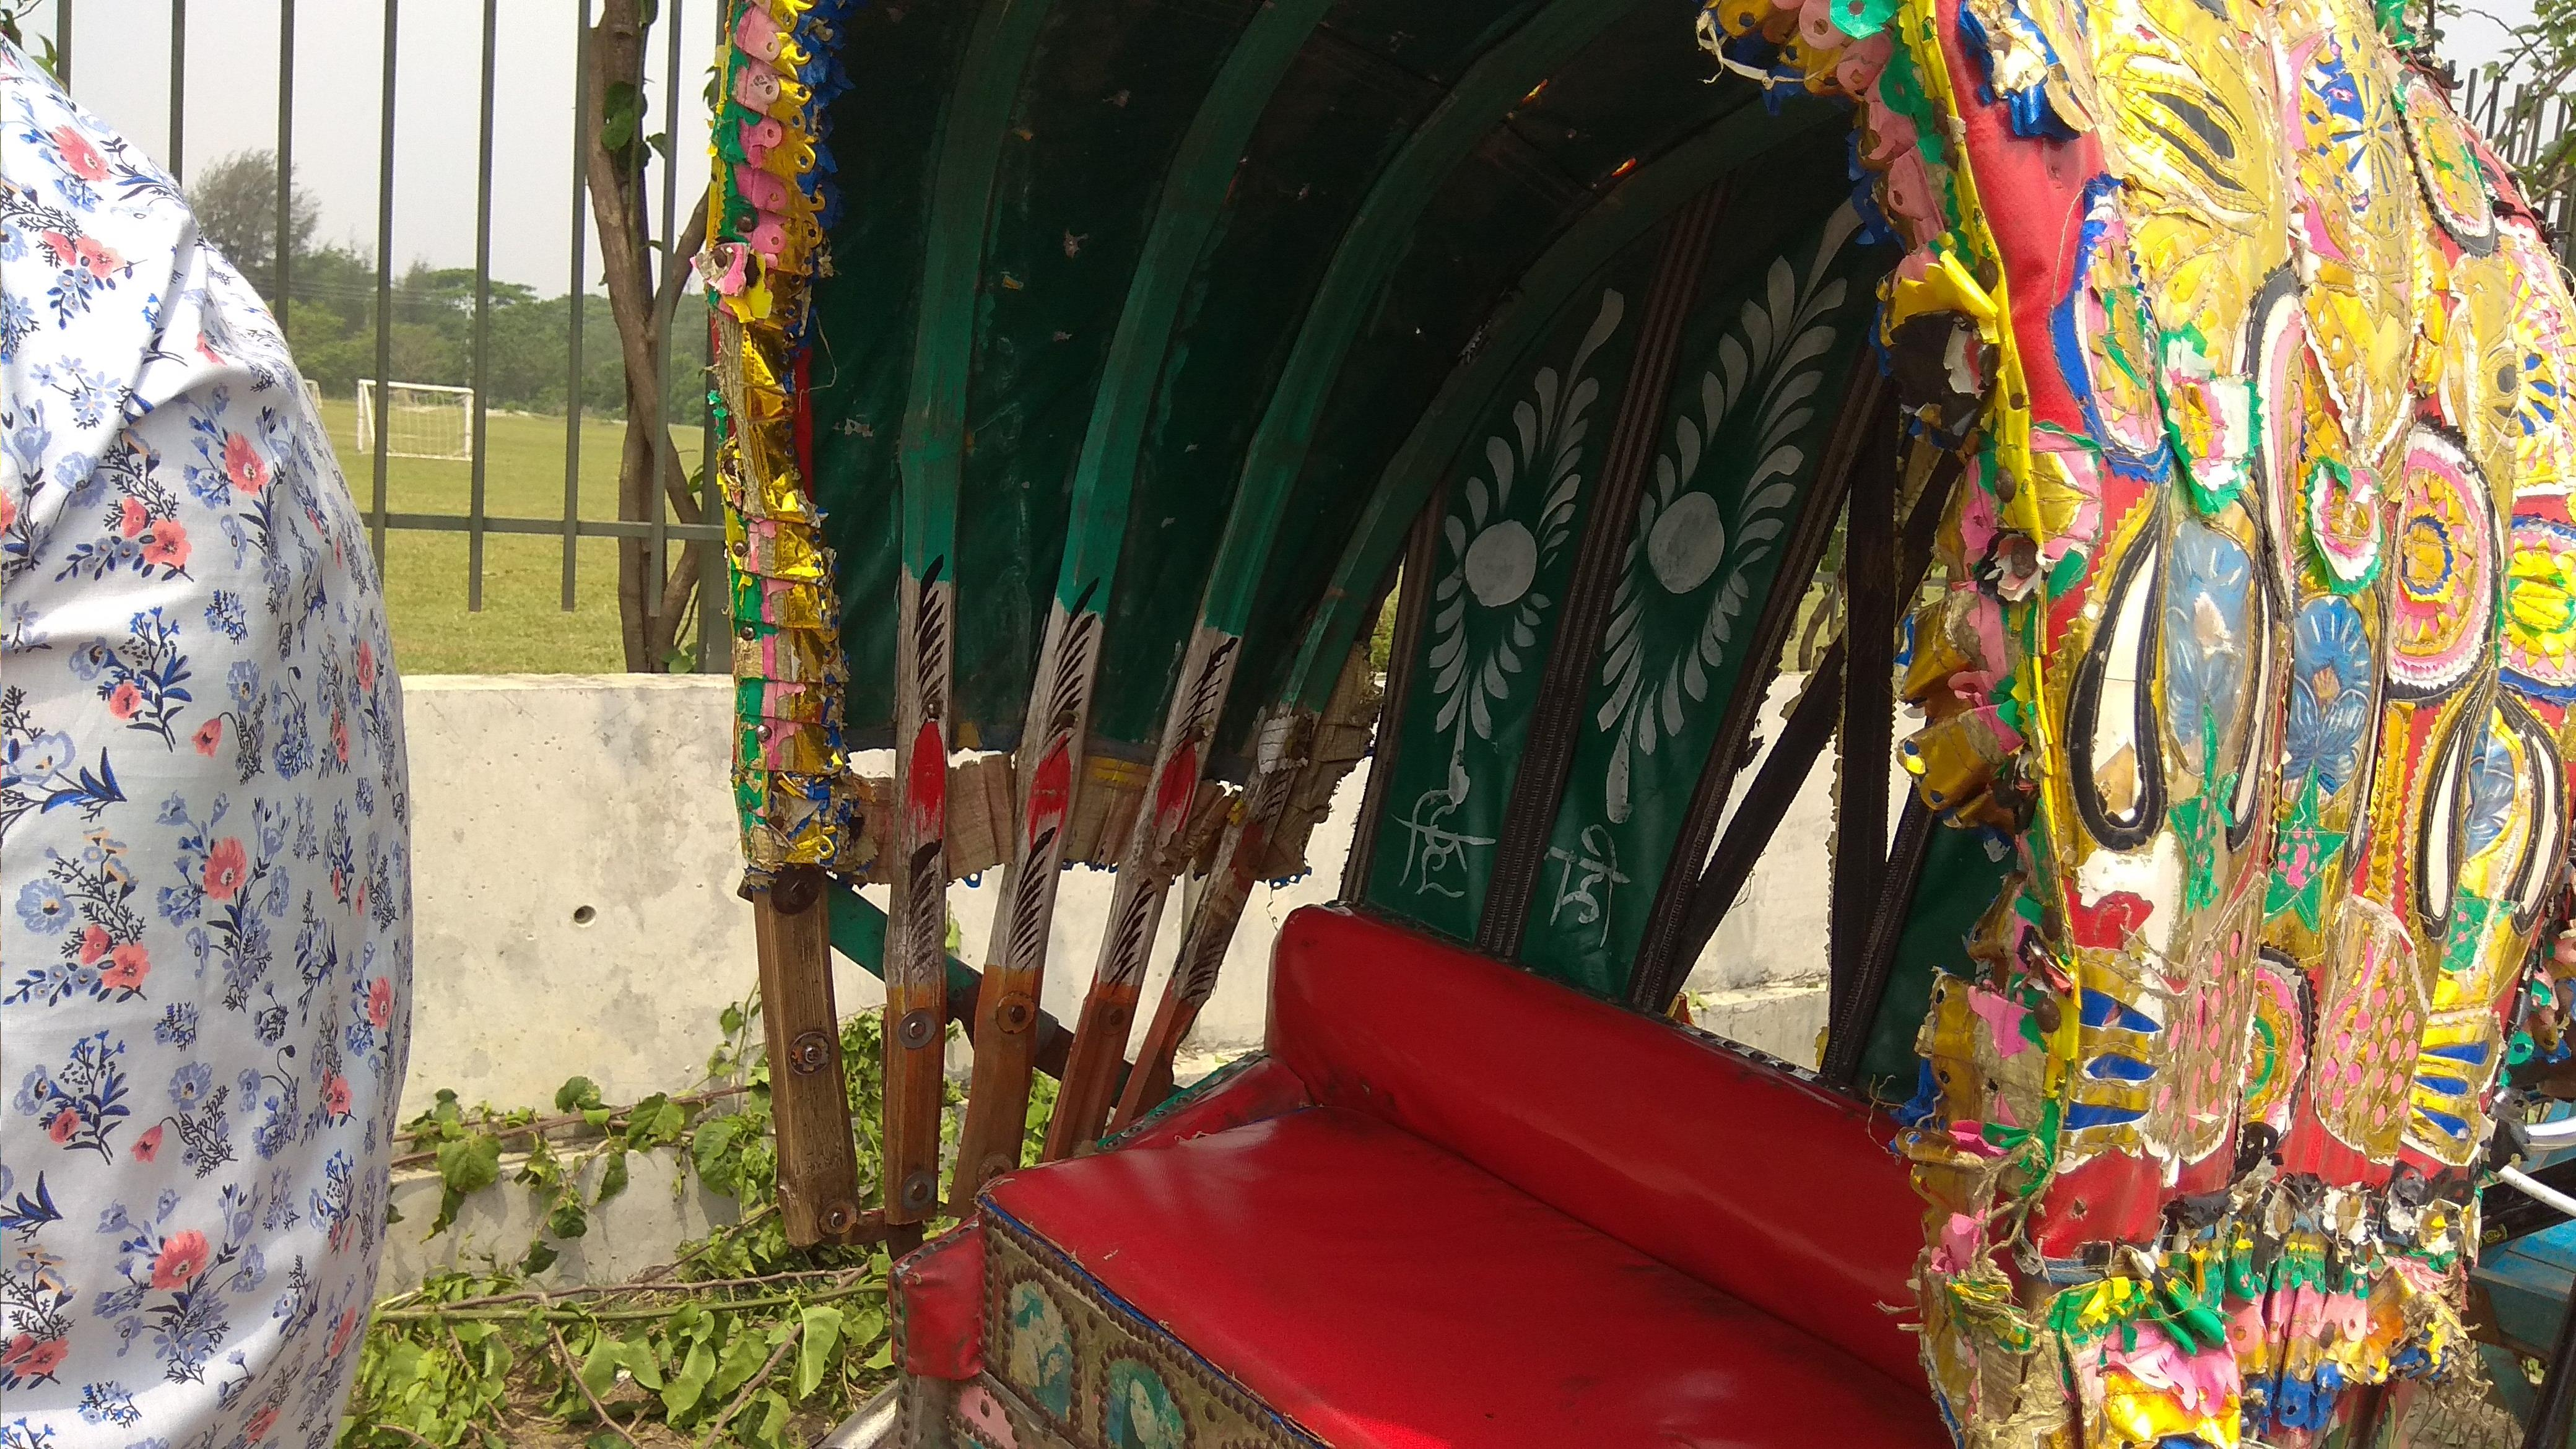Rickshaw: (591, 7, 2558, 1433)
